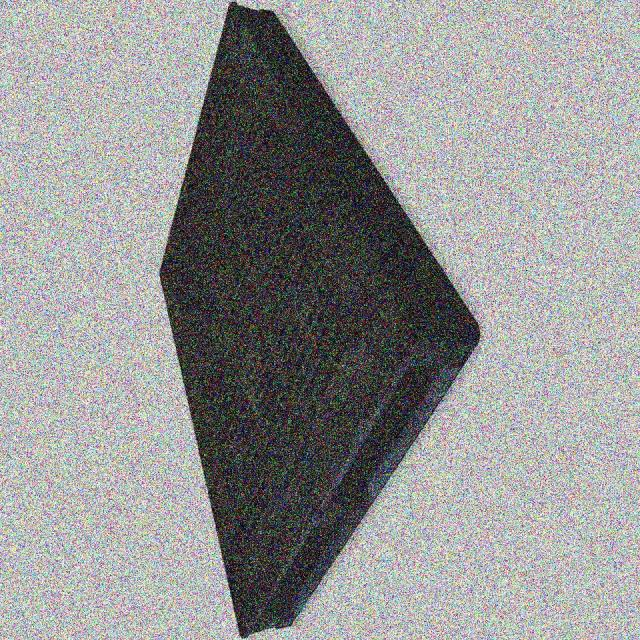non-igps: (156, 2, 482, 640)
